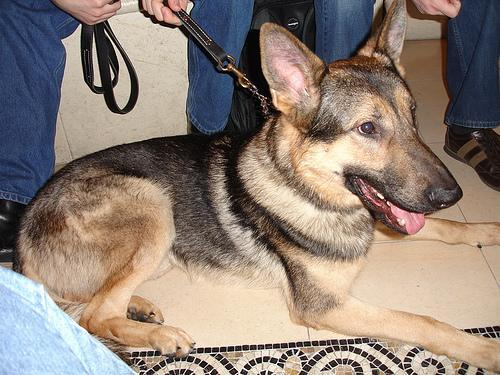German_shepherd: (9, 0, 498, 373)
